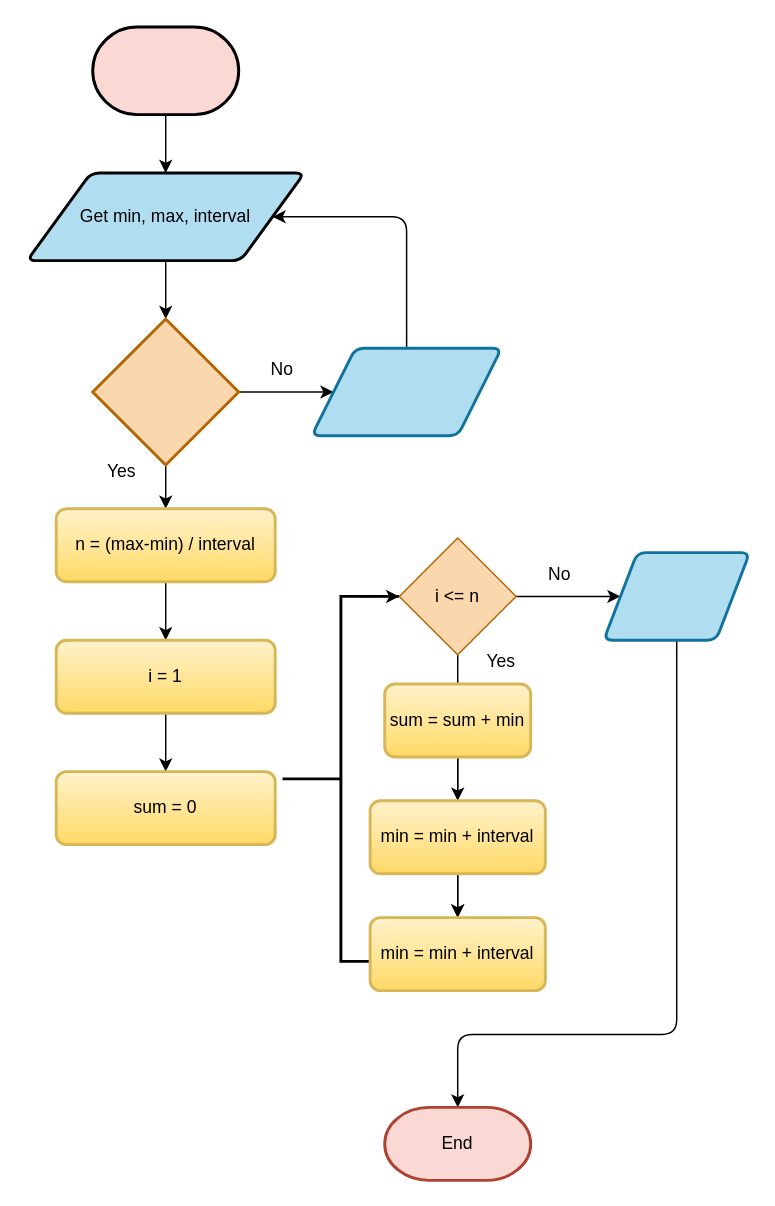
Some shapes in this 775 by 1206 pixel diagram are drawn without their labels. Here are the shapes that lost their labels. From the top down, the centre of each, then its label:
point (165, 70): Start
point (165, 391): (max-min) % interval == 0
point (406, 391): Print invalid interval
point (676, 595): Print sum
